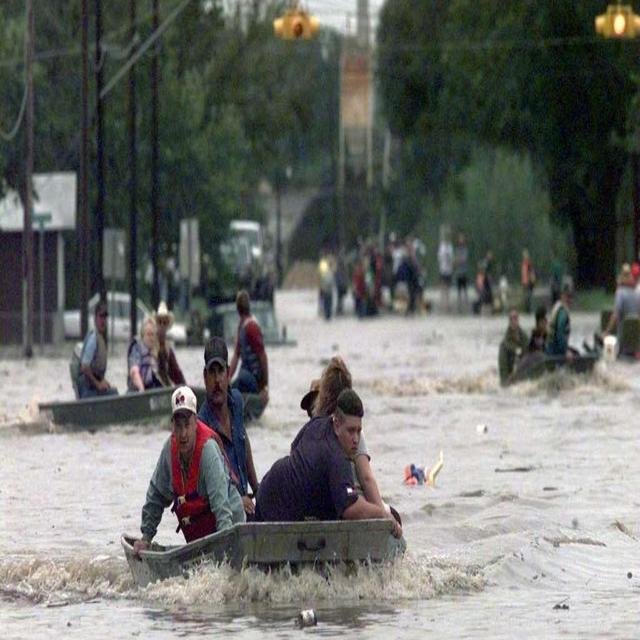Person-RiskLevel3: (132, 340, 394, 553), (62, 299, 269, 396), (485, 280, 601, 369)
